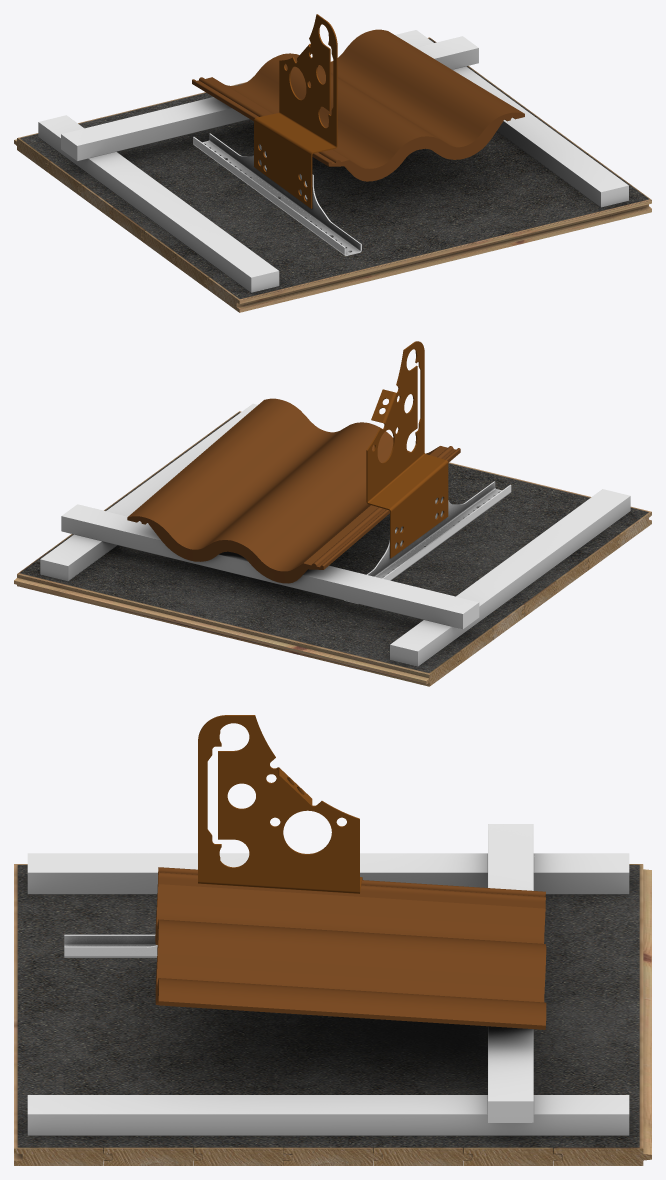
Rendered from Konsol_CWL.glb.
3 renders of one model, top to bottom at view 1: azimuth 30°, elevation 25°; view 2: azimuth 150°, elevation 25°; view 3: azimuth 270°, elevation 25°, orthographic. The views are drawn at different scales.
Visible parts, largest first — view 1: Plane, takPanna betong, Råspont, 420073-1, Läkt 36x48.001, Läkt 36x48, Läkt 36x48.002, Fotplatta; view 2: Plane, takPanna betong, Råspont, 420073-1, Läkt 36x48, Läkt 36x48.001, Läkt 36x48.002, Fotplatta; view 3: Plane, takPanna betong, Läkt 36x48.002, Råspont, 420073-1, Läkt 36x48.001, Läkt 36x48, Fotplatta.
Part boxes in pixels (x1,y1,x2,y2): Plane: (20, 38, 648, 298); takPanna betong: (192, 29, 524, 181); Råspont: (14, 37, 651, 312); 420073-1: (254, 14, 337, 208); Läkt 36x48.001: (38, 115, 279, 292); Läkt 36x48: (61, 36, 478, 161); Läkt 36x48.002: (395, 30, 628, 207); Fotplatta: (193, 133, 361, 255); Plane: (20, 412, 648, 672); takPanna betong: (127, 398, 460, 583); Råspont: (14, 411, 651, 686); 420073-1: (366, 341, 448, 558); Läkt 36x48: (61, 504, 479, 629); Läkt 36x48.001: (390, 489, 630, 666); Läkt 36x48.002: (40, 403, 257, 581); Fotplatta: (344, 481, 511, 603); Plane: (17, 865, 639, 1147); takPanna betong: (155, 867, 546, 1029); Läkt 36x48.002: (27, 1095, 629, 1135); Råspont: (14, 864, 651, 1165); 420073-1: (198, 715, 362, 893); Läkt 36x48.001: (27, 853, 629, 894); Läkt 36x48: (488, 824, 533, 1122); Fotplatta: (64, 934, 157, 957).
Bounding box in the file's own units: 0.7075 × 0.3221 × 0.67.
5 materials, 3 textured.
